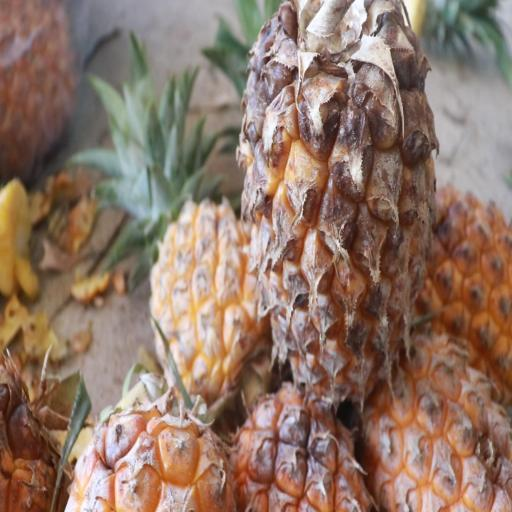Pineapple - v8 v1: (220, 0, 427, 411), (142, 97, 268, 410), (354, 333, 512, 512), (59, 371, 209, 512), (226, 371, 366, 512)
